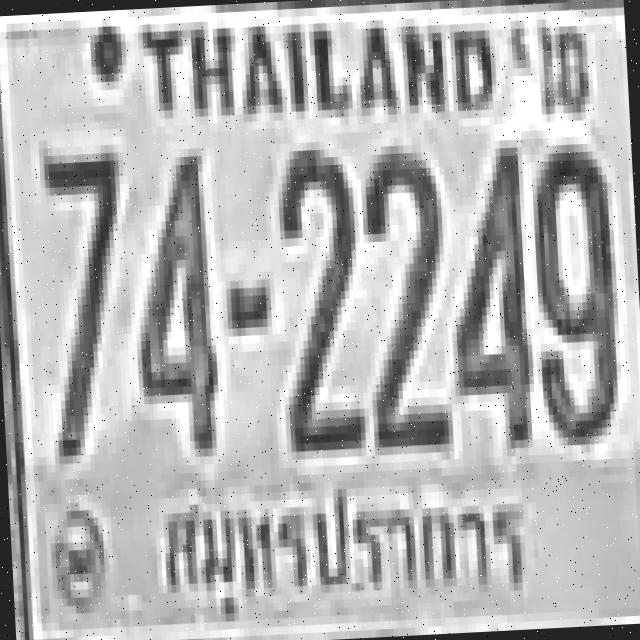2: (356, 140, 452, 444), (274, 145, 364, 448)
4: (126, 140, 217, 452), (442, 140, 532, 442)
7: (39, 146, 130, 457)
9: (525, 134, 620, 438)
SamutPrakan: (149, 458, 536, 630)
